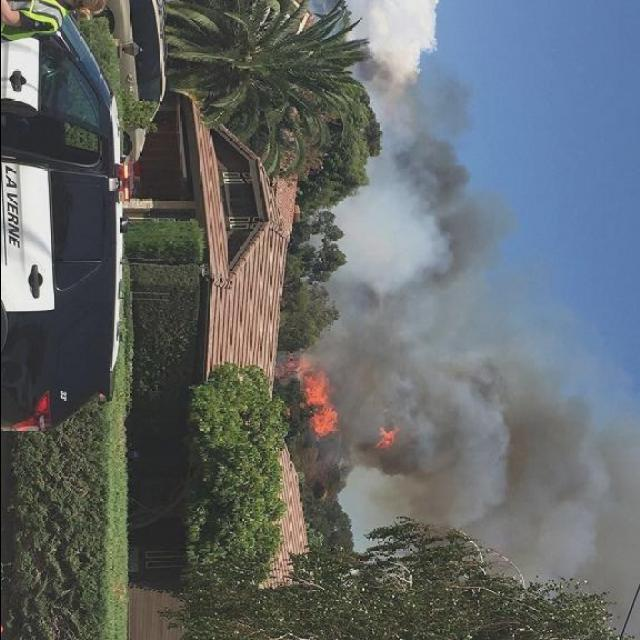Fire: (297, 332, 343, 436), (372, 426, 398, 452)
